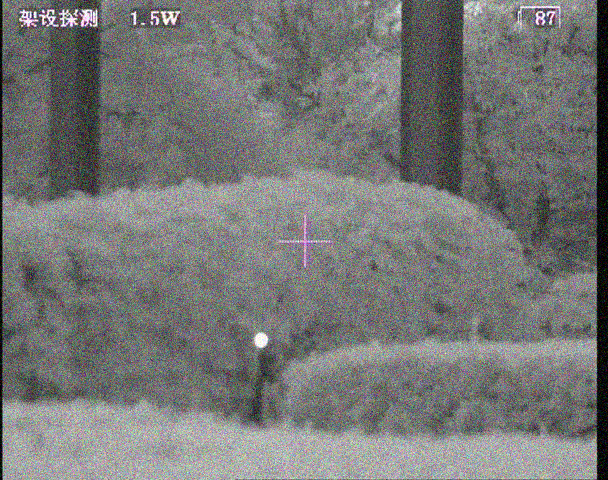my: (253, 331, 269, 349)
